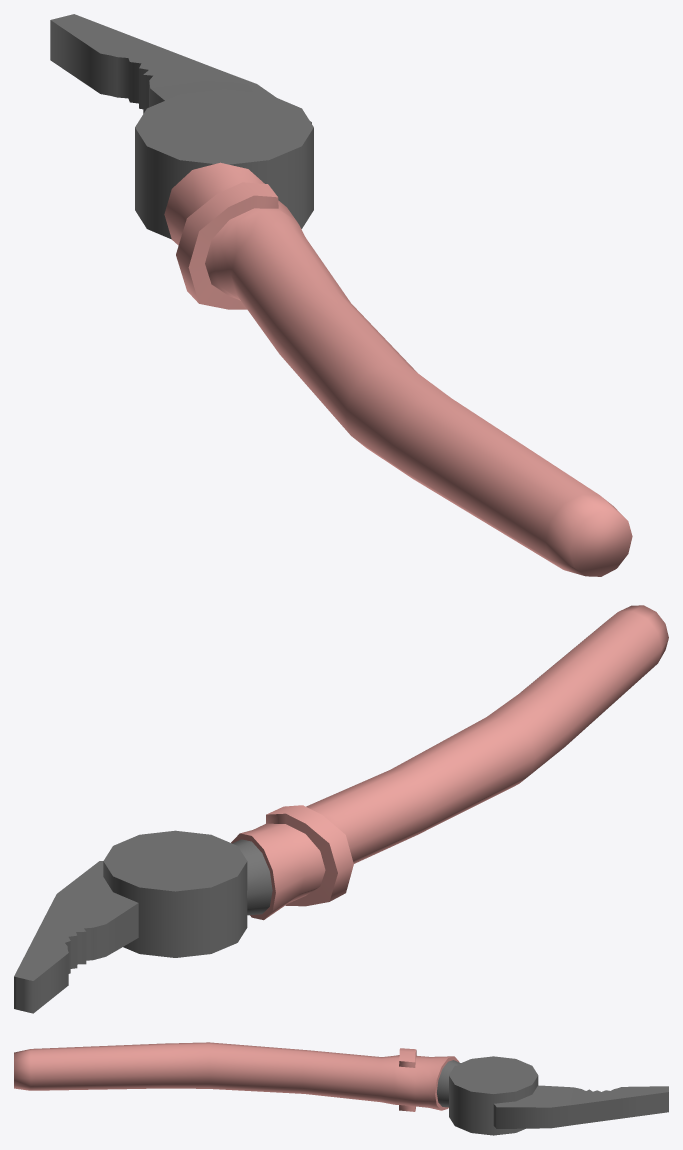
Rendered from Alicate_Ruim.fbx.
3 views of the same model, one above another, from view 1: azimuth 30°, elevation 25°; view 2: azimuth 150°, elevation 25°; view 3: azimuth 270°, elevation 25° (orthographic). The views are drawn at different scales.
Visible parts, largest first — view 1: Alicate_Ruim; view 2: Alicate_Ruim; view 3: Alicate_Ruim.
Part boxes in pixels (x1,y1,x2,y2): Alicate_Ruim: [50, 14, 632, 576]; Alicate_Ruim: [14, 605, 668, 1013]; Alicate_Ruim: [14, 1042, 668, 1135].
Bounding box in the file's own units: 13.12 × 5.65 × 58.59.
